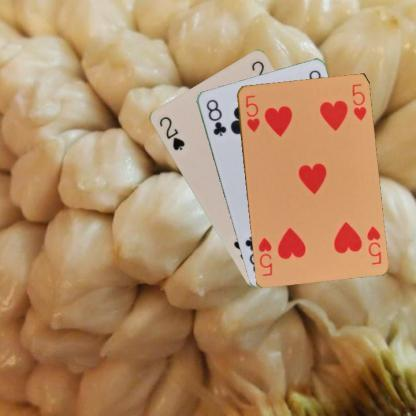2s: (156, 114, 186, 152)
5h: (364, 223, 382, 266), (242, 92, 260, 134)
8c: (203, 96, 228, 138)
